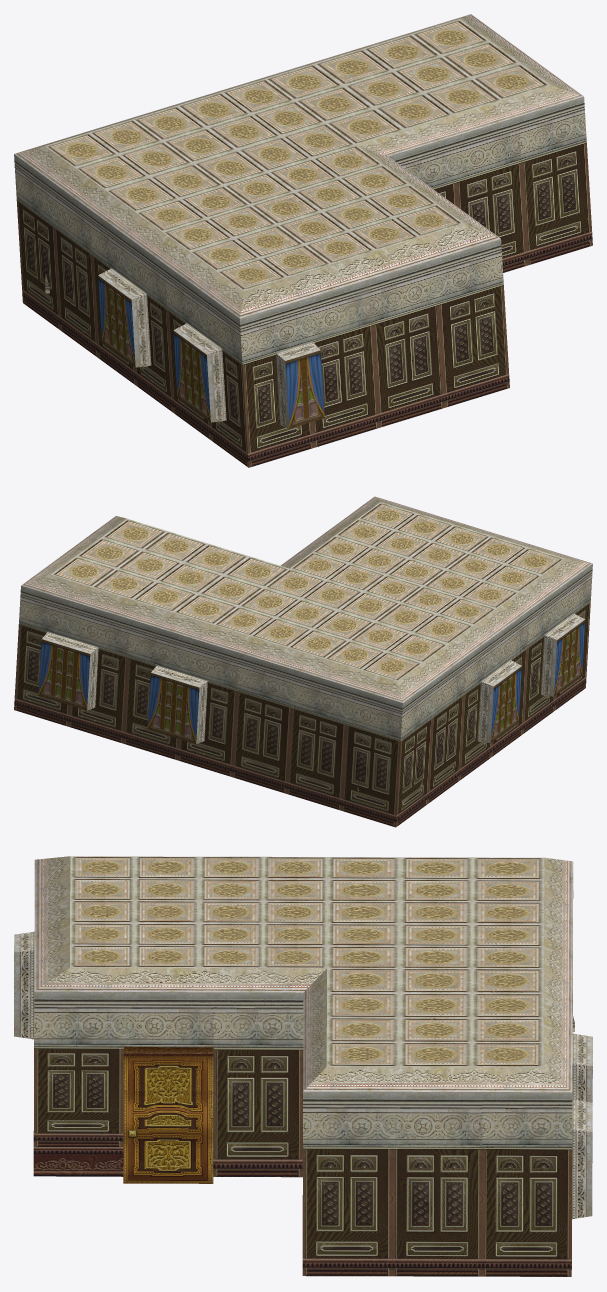
The picture shows the model from 3 angles, top to bottom: view 1: azimuth 30°, elevation 25°; view 2: azimuth 150°, elevation 25°; view 3: azimuth 270°, elevation 25°; orthographic projection. The views are drawn at different scales.
Visible parts, largest first — view 1: rd_in2; view 2: rd_in2; view 3: rd_in2.
Boxes of the visible parts, <box> form: rd_in2: <box>14,14,592,467</box>; rd_in2: <box>14,496,592,827</box>; rd_in2: <box>14,856,592,1276</box>.
Size of the model in its own units: 10.97 by 4.17 by 9.68.
17 materials, 17 textured.
